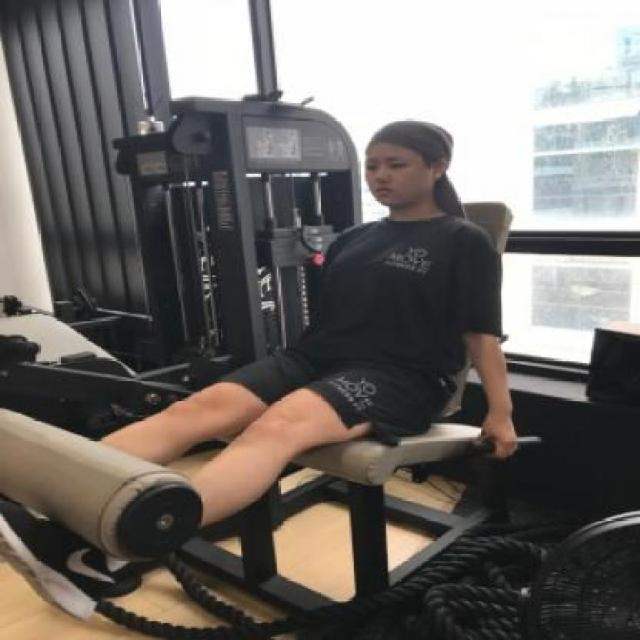leg extension: (0, 67, 582, 638)
